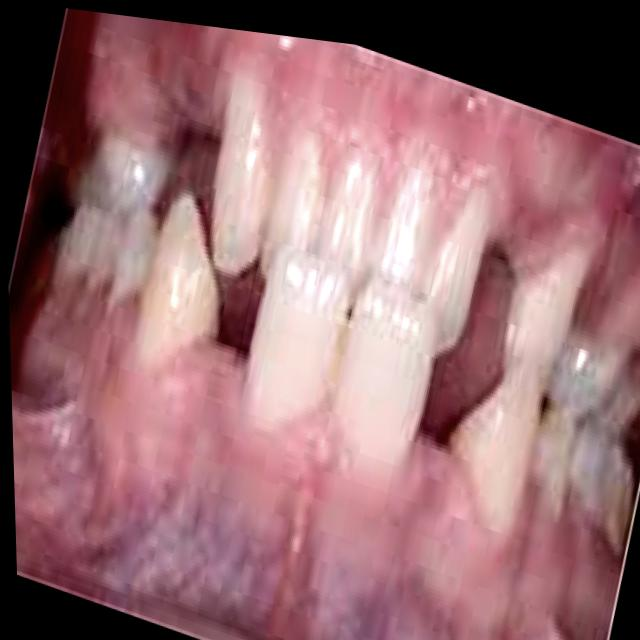hypodontia: (381, 214, 551, 510), (148, 231, 290, 436), (122, 71, 241, 243)
